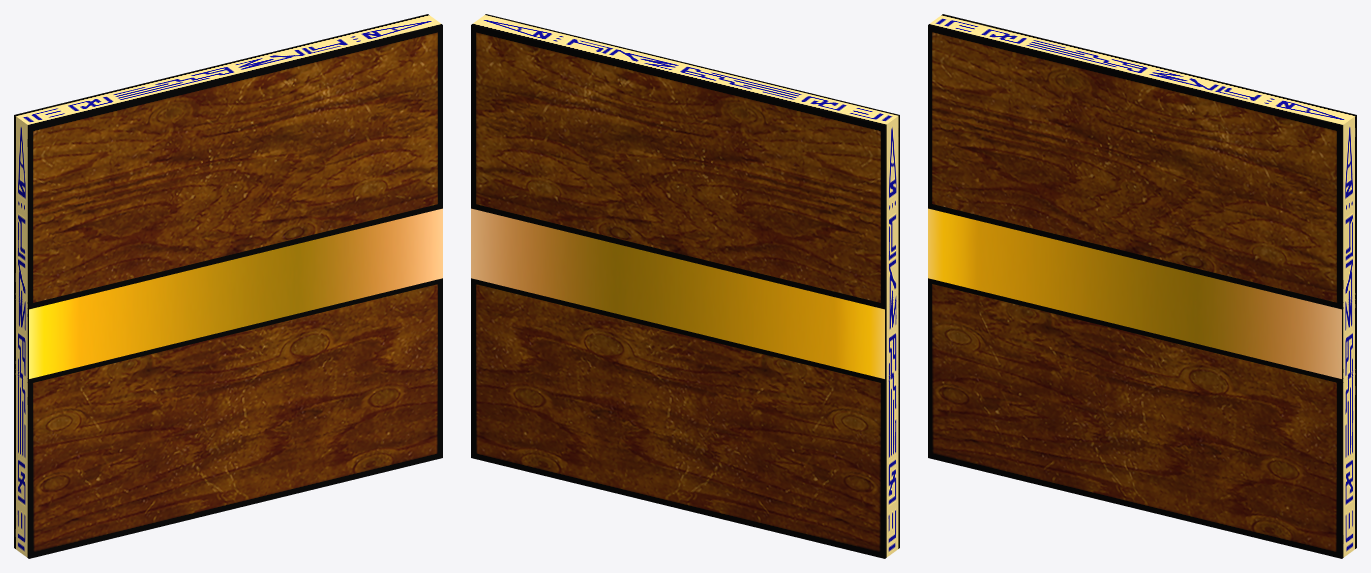
Rendered from jungle_wall2.gltf.
3 views of the same model, side by side, from view 1: azimuth 30°, elevation 25°; view 2: azimuth 150°, elevation 25°; view 3: azimuth 330°, elevation 25° (orthographic).
Visible parts, largest first — view 1: jungle_wall2_glb; view 2: jungle_wall2_glb; view 3: jungle_wall2_glb.
Boxes of the visible parts, box(x1,y1,x2,y2) form: jungle_wall2_glb: box(14, 14, 442, 558); jungle_wall2_glb: box(471, 14, 899, 558); jungle_wall2_glb: box(928, 14, 1356, 558).
Size of what is drawn, in the model's own units: 4 by 4 by 0.25.
Materials: 1 (1 with a texture image).
